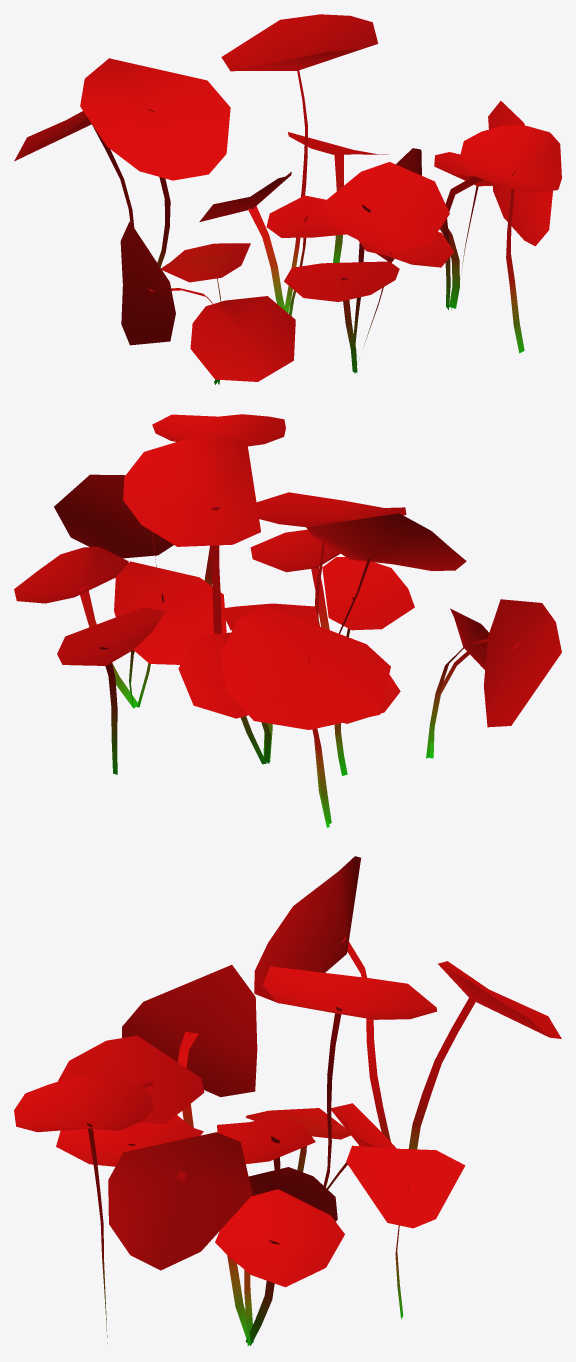
The model's file is Native Violet_LOD3_Var26_ultkcfeja.fbx.
3 renders of one model, top to bottom at view 1: azimuth 30°, elevation 25°; view 2: azimuth 150°, elevation 25°; view 3: azimuth 270°, elevation 25°, orthographic. The views are drawn at different scales.
Visible parts, largest first — view 1: _hkw2_Var26_LOD3; view 2: _hkw2_Var26_LOD3; view 3: _hkw2_Var26_LOD3.
Boxes of the visible parts, bbox=[...] form: _hkw2_Var26_LOD3: bbox=[14, 14, 561, 384]; _hkw2_Var26_LOD3: bbox=[14, 414, 561, 827]; _hkw2_Var26_LOD3: bbox=[14, 856, 561, 1345].
Bounding box in the file's own units: 21.53 × 13.66 × 20.82.
